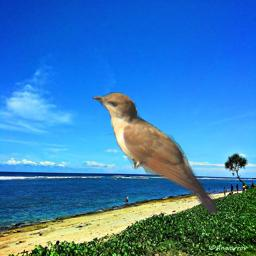Cuckoo: (92, 92, 216, 215)
